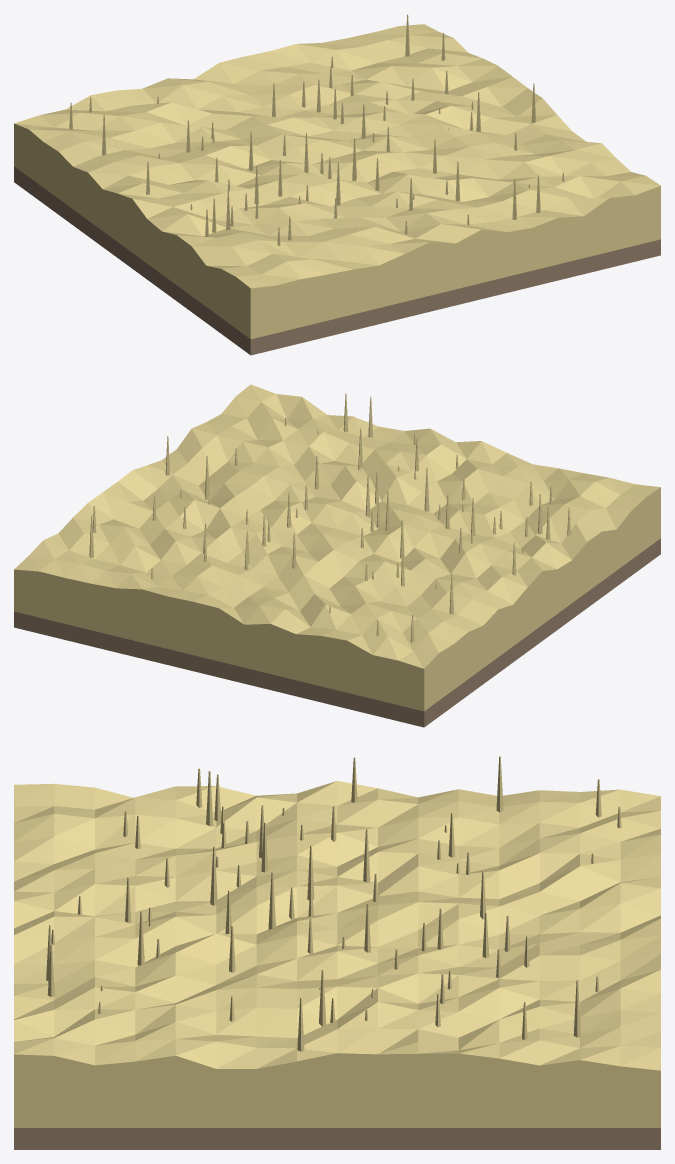
The model's file is arable-fields-and-farm-machinery-field-tile-standing-w-20bc4943__16874.glb.
3 views of the same model, one above another, from view 1: azimuth 30°, elevation 25°; view 2: azimuth 150°, elevation 25°; view 3: azimuth 270°, elevation 25° (orthographic). The views are drawn at different scales.
Visible parts, largest first — view 1: field-tile-standing-wheat; view 2: field-tile-standing-wheat; view 3: field-tile-standing-wheat.
Boxes of the visible parts, bbox=[...] form: field-tile-standing-wheat: bbox=[14, 14, 660, 355]; field-tile-standing-wheat: bbox=[14, 384, 660, 727]; field-tile-standing-wheat: bbox=[14, 756, 660, 1149].
Bounding box in the file's own units: 8 × 1.92 × 8.
